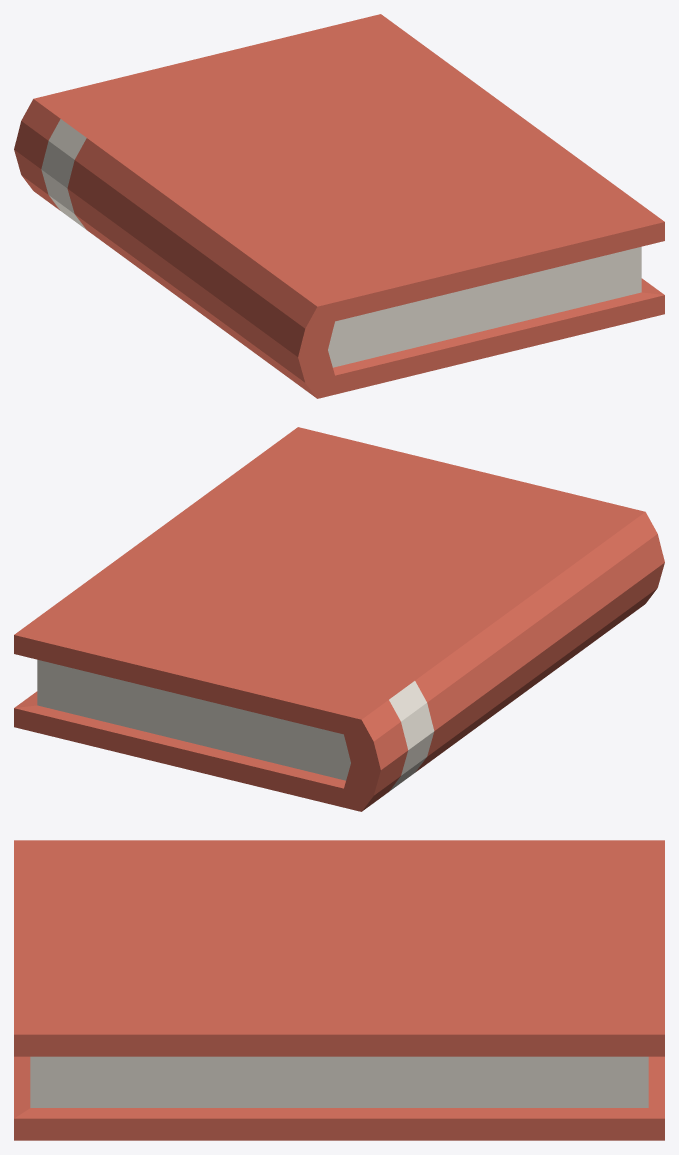
The model's file is Book_01.fbx.
3 views of the same model, one above another, from view 1: azimuth 30°, elevation 25°; view 2: azimuth 150°, elevation 25°; view 3: azimuth 270°, elevation 25° (orthographic). The views are drawn at different scales.
Visible parts, largest first — view 1: Book1; view 2: Book1; view 3: Book1.
Boxes of the visible parts, x1,y1,x2,y2 form: Book1: (14, 14, 664, 398); Book1: (14, 427, 664, 811); Book1: (14, 840, 664, 1140).
Bounding box in the file's own units: 0.31 × 0.0745 × 0.4157.
